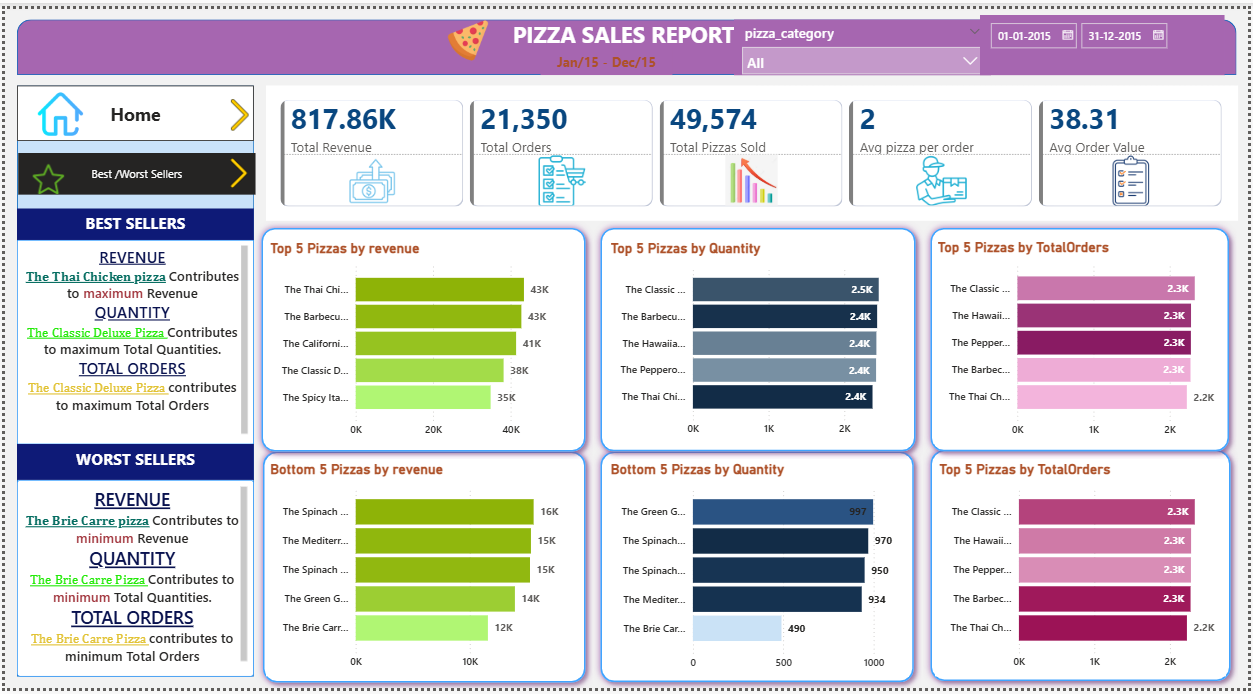

Layout of this report page (visuals, bound fields, positions):
{"tool":"powerbi","page":{"name":"Best /Worst Sellers","canvas":[1500,820],"ordinal":1},"visuals":[{"type":"shape","box":[14.5,92.4,286.2,713.7],"z":0},{"type":"cardVisual","fields":{"Data":["pizza_sales.Total Revenue","pizza_sales.Total Orders","pizza_sales.Total Pizzas Sold","pizza_sales.Avg pizza per order","pizza_sales.Avg Order Value"]},"box":[315.2,92.4,1173.9,163],"z":1000},{"type":"shape","box":[14.5,12.7,1472.8,67],"z":2000},{"type":"textbox","box":[590.6,7.2,322.5,39.9],"z":3000},{"type":"textbox","box":[646.7,47.1,159.4,32.6],"z":4000},{"type":"image","box":[527.2,12.7,63.4,50.7],"z":5000},{"type":"shape","box":[302.5,525.3,407.6,297.1],"z":6000},{"type":"shape","box":[710.9,524.9,396.4,296.8],"z":7000},{"type":"shape","box":[1108.7,523.5,380.4,297.1],"z":8000},{"type":"textbox","box":[14.5,240.9,286.2,38],"z":9000},{"type":"textbox","box":[14.5,279,286.2,246.4],"z":10000},{"type":"textbox","box":[14.5,525.3,286.2,43.5],"z":11000},{"type":"textbox","box":[14.5,568.8,286.2,237.3],"z":12000},{"type":"slicer","fields":{"Values":["pizza_sales.pizza_category"]},"box":[880.4,12.7,309.8,67],"z":13000},{"type":"slicer","fields":{"Values":["pizza_sales.order_date"]},"box":[1177.5,7.2,295.3,72.5],"z":14000},{"type":"shape","box":[300.7,255.4,409.4,288],"z":15000},{"type":"shape","box":[710.9,254.7,398.6,287.9],"z":16000},{"type":"shape","box":[1109.5,254.7,378.7,287.9],"z":17000},{"type":"barChart","title":"Top 5 Pizzas by revenue","fields":{"Category":["pizza_sales.pizza_name"],"Y":["pizza_sales.Total Revenue"]},"box":[315.2,279,378.6,246.4],"z":18000},{"type":"barChart","title":"Bottom 5 Pizzas by revenue","fields":{"Category":["pizza_sales.pizza_name"],"Y":["pizza_sales.Total Revenue"]},"box":[315.2,545.3,380.4,260.9],"z":19000},{"type":"barChart","title":"Bottom 5 Pizzas by Quantity","fields":{"Category":["pizza_sales.pizza_name"],"Y":["Sum(pizza_sales.quantity)"]},"box":[726.4,544.8,365.4,261.3],"z":20000},{"type":"barChart","title":"Top 5 Pizzas by Quantity","fields":{"Category":["pizza_sales.pizza_name"],"Y":["Sum(pizza_sales.quantity)"]},"box":[726.4,279,365.4,245.8],"z":21000},{"type":"barChart","title":"Top 5 Pizzas by TotalOrders","fields":{"Category":["pizza_sales.pizza_name"],"Y":["pizza_sales.Total Orders"]},"box":[1121.3,277.2,353.2,248.2],"z":22000},{"type":"barChart","title":"Top 5 Pizzas by TotalOrders","fields":{"Category":["pizza_sales.pizza_name"],"Y":["pizza_sales.Total Orders"]},"box":[1123.1,545.3,351.4,260.9],"z":23000},{"type":"pageNavigator","box":[16.3,173.9,286.2,50.7],"z":24000},{"type":"pageNavigator","box":[14.5,92.4,286.2,67],"z":25000},{"type":"image","box":[264.5,177.5,36.2,41.7],"z":26000},{"type":"image","box":[16.3,99.6,101.4,54.3],"z":27000},{"type":"image","box":[30.8,186.6,43.5,38],"z":28000},{"type":"image","box":[264.5,106.9,38,41.7],"z":28001}]}

Visuals, with their boxes in screenshot pixels (x1, y1, x2, y2), scaled from the page's 1500x820 canvas onto the 1253x694 screenshot:
shape: bbox(12, 78, 251, 682)
cardVisual - pizza_sales.Total Revenue x pizza_sales.Total Orders: bbox(263, 78, 1244, 216)
shape: bbox(12, 11, 1242, 67)
textbox: bbox(493, 6, 763, 40)
textbox: bbox(540, 40, 673, 67)
image: bbox(440, 11, 493, 54)
shape: bbox(253, 445, 593, 693)
shape: bbox(594, 444, 925, 693)
shape: bbox(926, 443, 1244, 693)
textbox: bbox(12, 204, 251, 236)
textbox: bbox(12, 236, 251, 445)
textbox: bbox(12, 445, 251, 481)
textbox: bbox(12, 481, 251, 682)
slicer - pizza_sales.pizza_category: bbox(735, 11, 994, 67)
slicer - pizza_sales.order_date: bbox(984, 6, 1230, 67)
shape: bbox(251, 216, 593, 460)
shape: bbox(594, 216, 927, 459)
shape: bbox(927, 216, 1243, 459)
"Top 5 Pizzas by revenue" barChart: bbox(263, 236, 580, 445)
"Bottom 5 Pizzas by revenue" barChart: bbox(263, 462, 581, 682)
"Bottom 5 Pizzas by Quantity" barChart: bbox(607, 461, 912, 682)
"Top 5 Pizzas by Quantity" barChart: bbox(607, 236, 912, 444)
"Top 5 Pizzas by TotalOrders" barChart: bbox(937, 235, 1232, 445)
"Top 5 Pizzas by TotalOrders" barChart: bbox(938, 462, 1232, 682)
pageNavigator: bbox(14, 147, 253, 190)
pageNavigator: bbox(12, 78, 251, 135)
image: bbox(221, 150, 251, 186)
image: bbox(14, 84, 98, 130)
image: bbox(26, 158, 62, 190)
image: bbox(221, 90, 253, 126)
